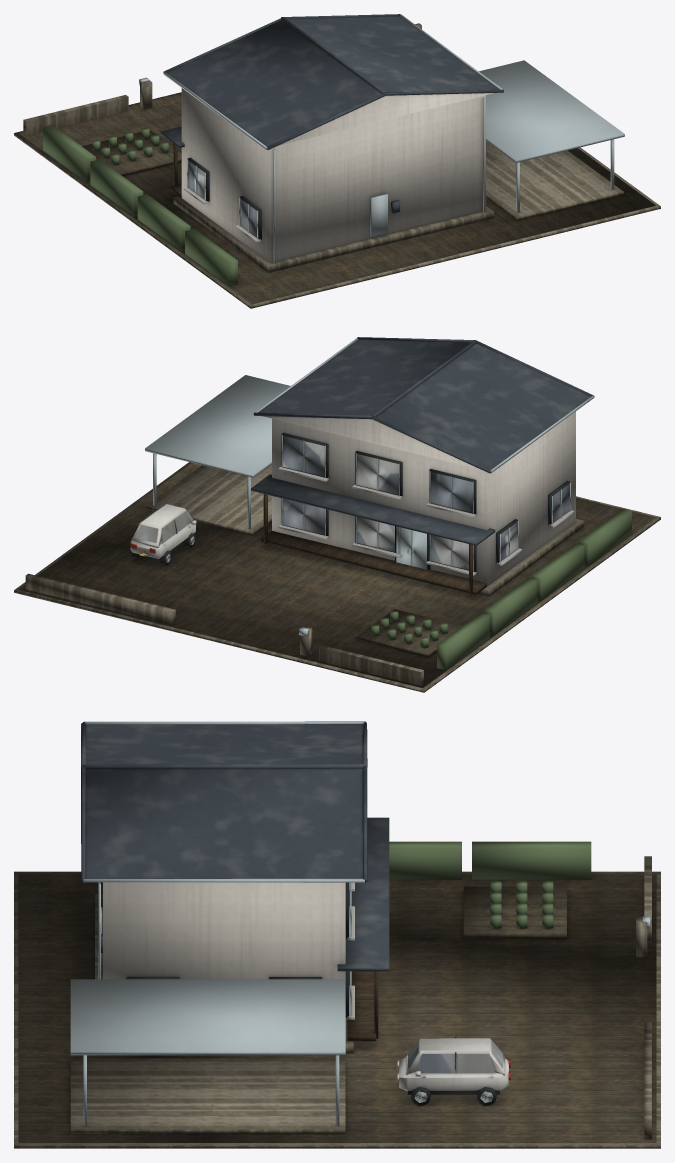
The model's file is rural_house_003.lod1.obj.
3 renders of one model, top to bottom at view 1: azimuth 30°, elevation 25°; view 2: azimuth 150°, elevation 25°; view 3: azimuth 270°, elevation 25°, orthographic. The views are drawn at different scales.
Parts seen in each view (by area): view 1: rural_house_003; view 2: rural_house_003; view 3: rural_house_003.
Boxes of the visible parts, left/top/right/bottom form: rural_house_003: left=14, top=14, right=660, bottom=308; rural_house_003: left=14, top=337, right=660, bottom=692; rural_house_003: left=14, top=721, right=660, bottom=1148.
Bounding box in the file's own units: 20 × 7.41 × 20.
1 material, 1 textured.
